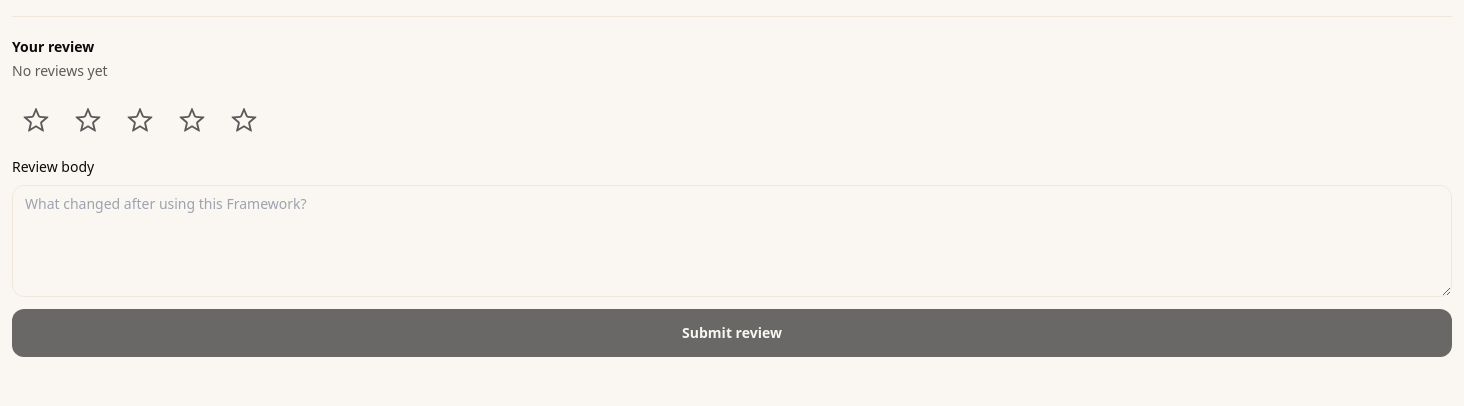
Test: FrameworkReviewPanel › submits a new review when the operator has none yet
Click the radio button named "4 Stars".
click(192, 121)  # box top-left (168, 97), bottom-right (216, 145)
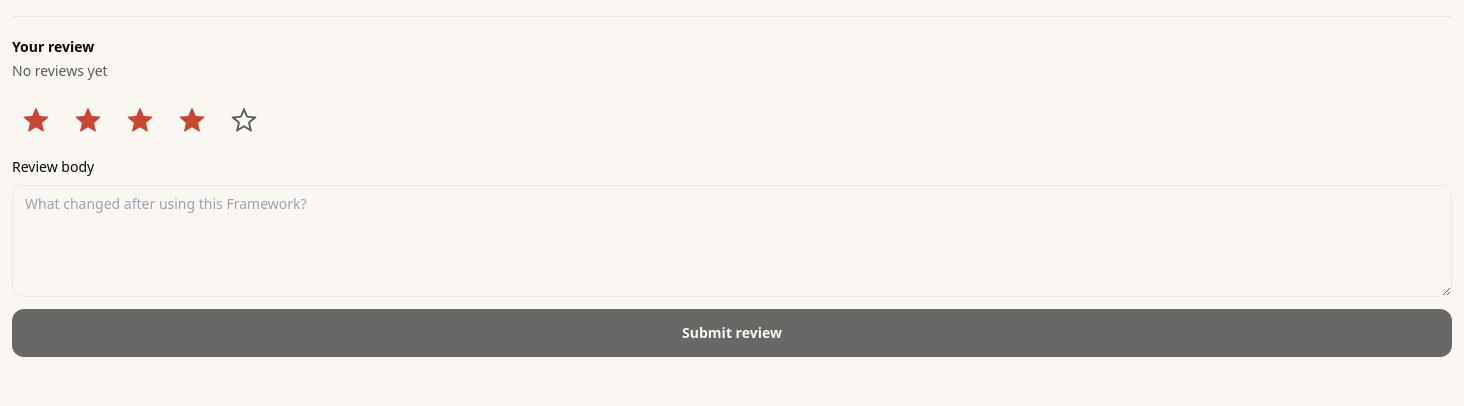
Type "Helped a lot." into the text box with placeholder "What changed after using this Framework?".
click(732, 241); type("Helped a lot.")  # box top-left (12, 185), bottom-right (1452, 297)
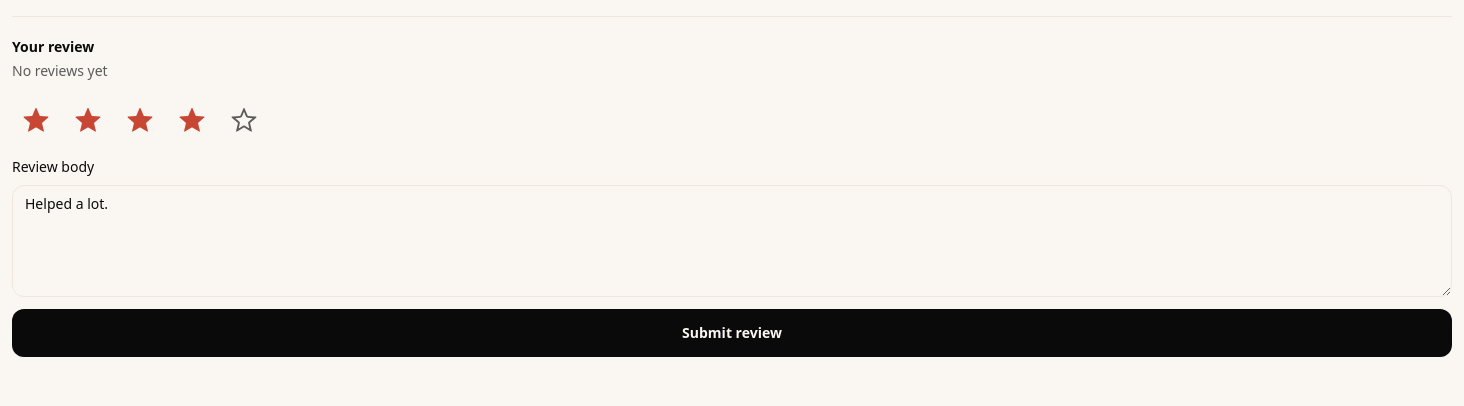
Click the button "Submit review".
click(732, 333)  # box top-left (12, 309), bottom-right (1452, 357)
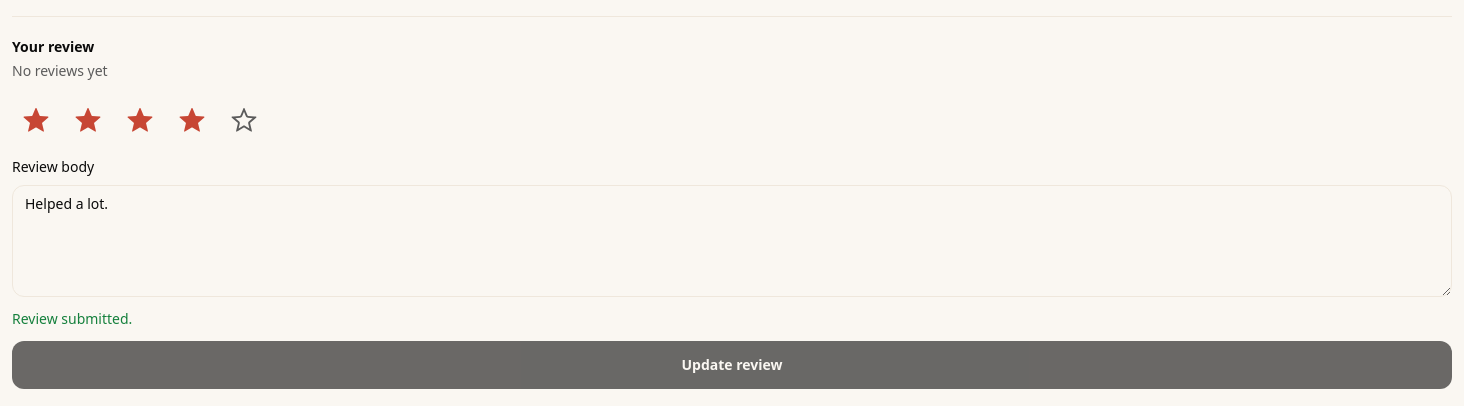
Expected: the text "Review submitted." is shown, top-left (12, 309), bottom-right (132, 328)
